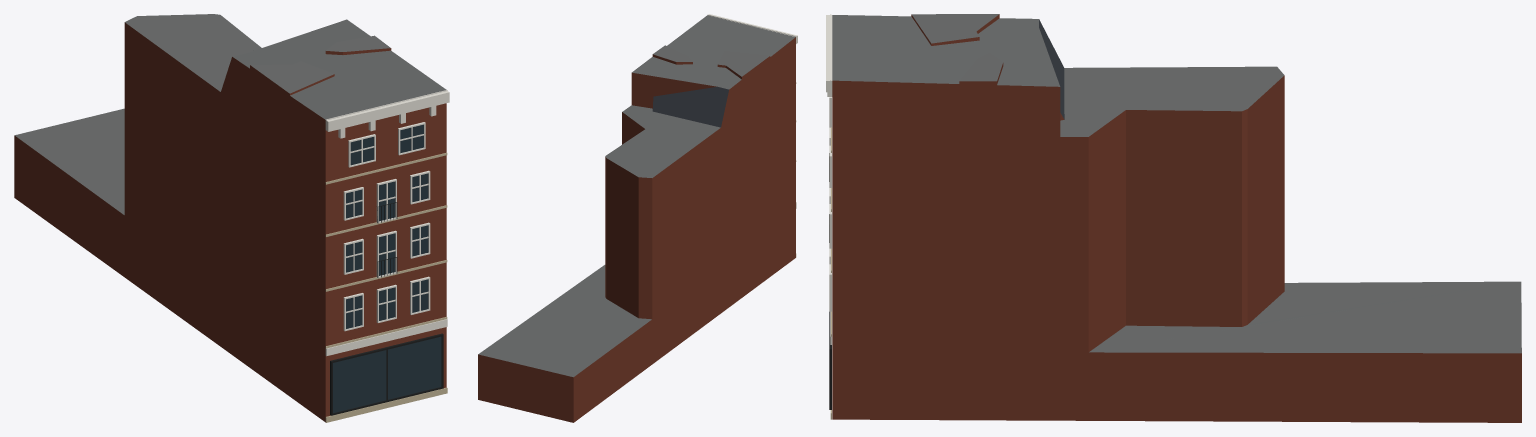
File: recipe-bilder-081118.glb
The picture shows the model from 3 angles, left to right: view 1: azimuth 30°, elevation 25°; view 2: azimuth 150°, elevation 25°; view 3: azimuth 270°, elevation 25°; orthographic projection. The views are drawn at different scales.
Visible parts, largest first — view 1: bilder-081118; view 2: bilder-081118; view 3: bilder-081118.
Boxes of the visible parts, x1,y1,x2,y2 form: bilder-081118: (14, 14, 449, 422); bilder-081118: (478, 14, 797, 422); bilder-081118: (826, 14, 1521, 422).
Bounding box in the file's own units: 7.39 × 16.4 × 30.46.
